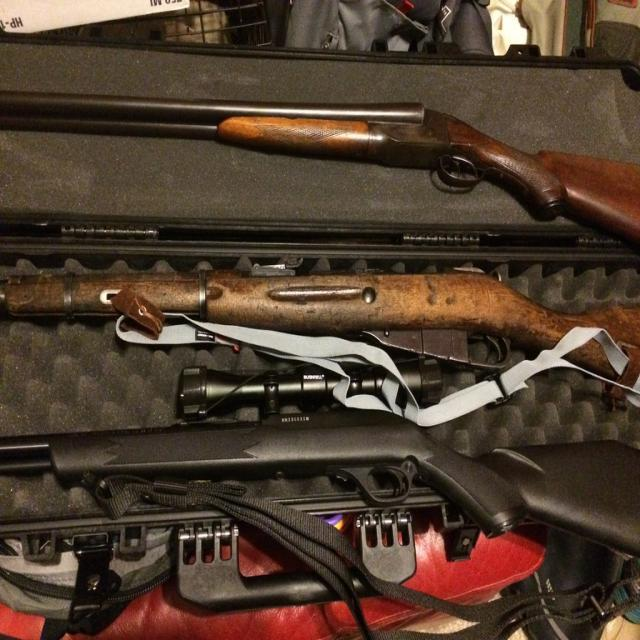weapon: (0, 90, 640, 248), (0, 411, 640, 556), (0, 260, 640, 372)
